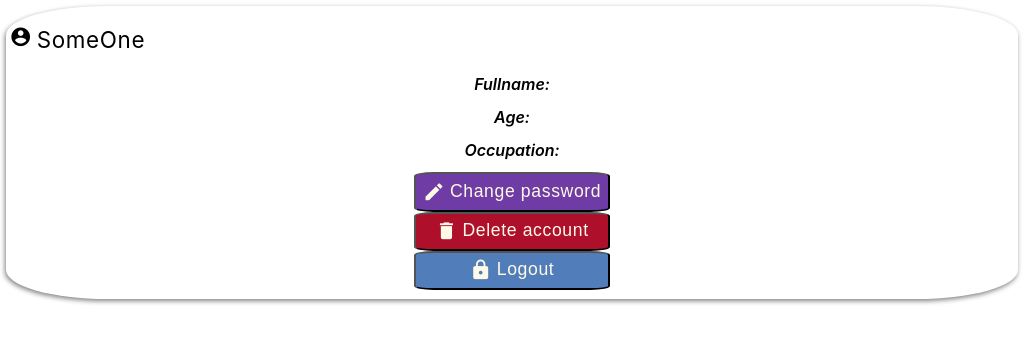
Test: Profile item componenet tests - fail screen › Delete account, front validate issue
start deletion, input appearance
Click the text "Delete account": (526, 231) [462,222,589,240]
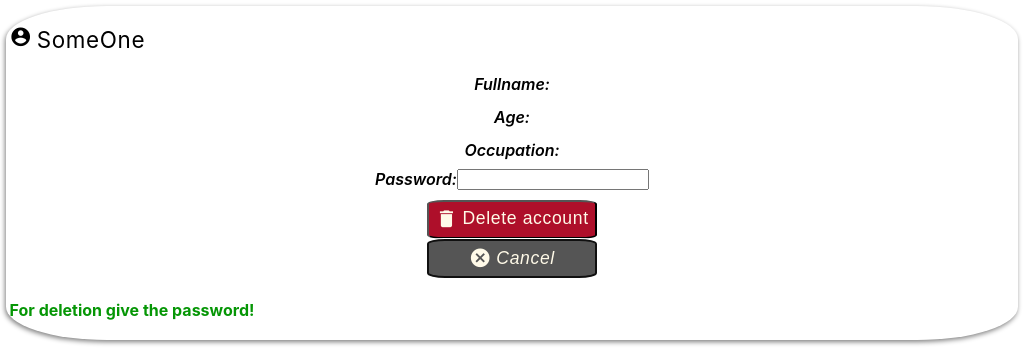
Check: the password field labelled "Password:" is shown
Check: the text "Delete account" is shown, box [462,210,589,228]
Check: the icon "Cancel" is shown, box [496,250,555,267]
give wrong pwd, read back
In the password field labelled "Password:": (553, 180) [457,169,649,190], type "f"
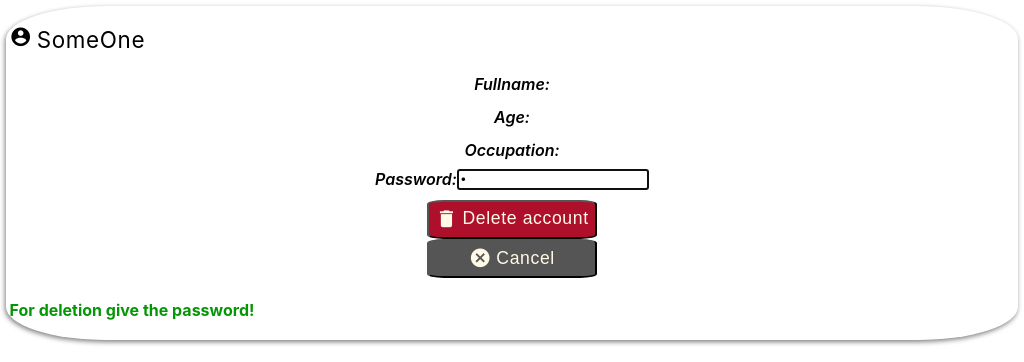
Click the text "Delete account": (526, 219) [462,210,589,228]
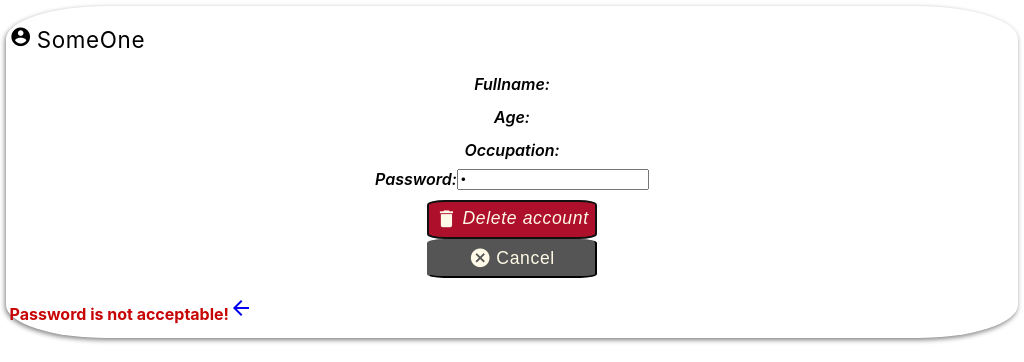
Check: the text "Delete account" is shown, box [462,210,589,228]
Check: the icon "Cancel" is shown, box [496,250,555,267]
Check: the text "Password is not acceptable!" is shown, box [10,304,229,324]
